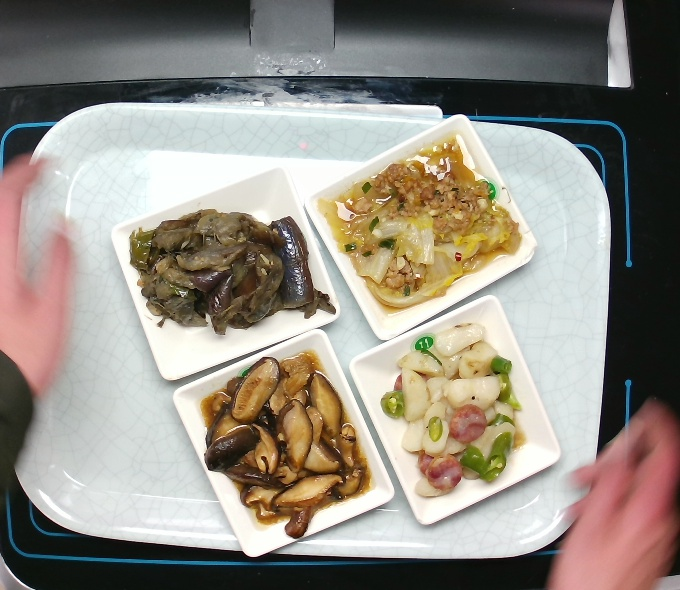wcq-MaTiGuo: (375, 320, 532, 501)
wcq-MoGu: (201, 352, 368, 539)
wcq-QieZi: (127, 204, 339, 340)
wcq-RouMoBaiCai: (318, 131, 521, 311)
